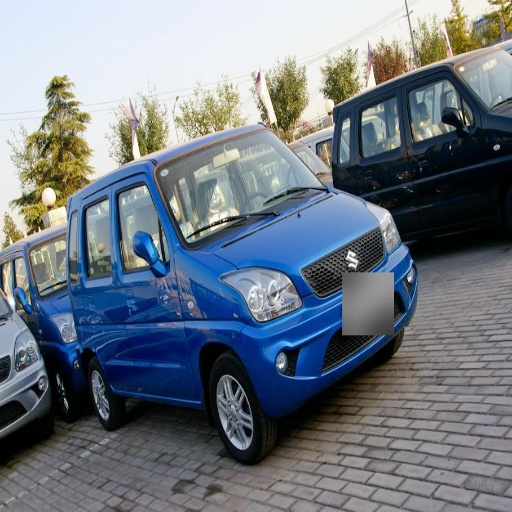front_bumper: (240, 242, 416, 417)
front_glass: (159, 137, 297, 242)
front_right_door: (119, 178, 181, 392)
front_right_light: (222, 268, 302, 321)
